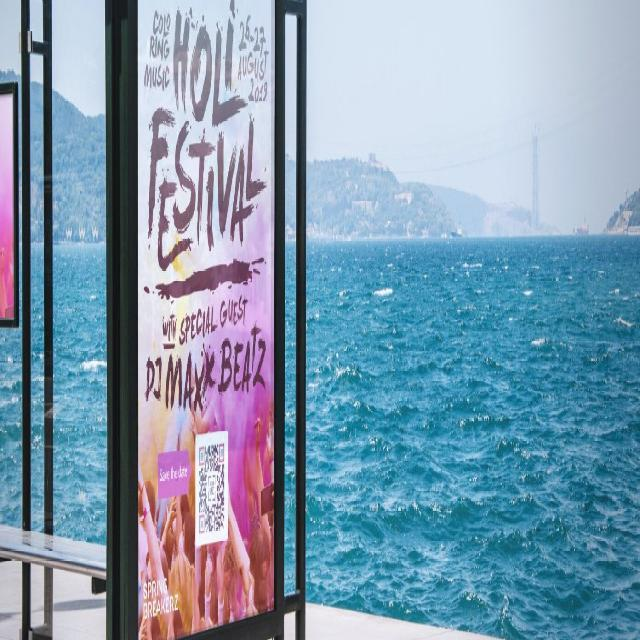qr_code: (198, 443, 225, 533)
